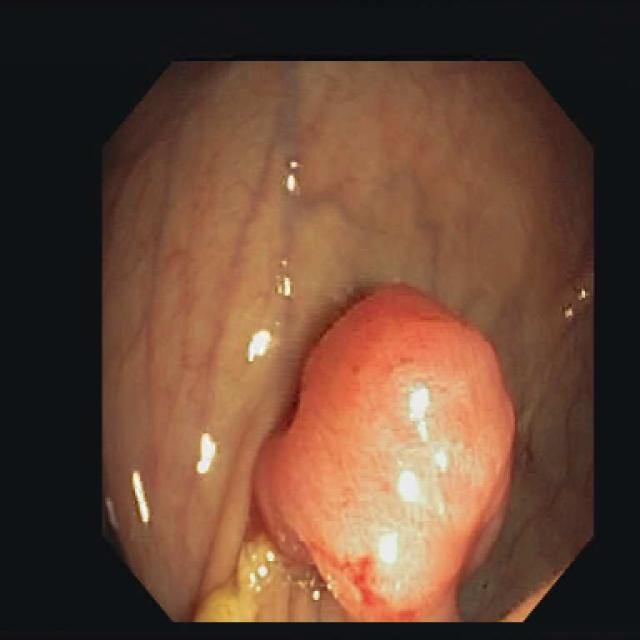tumor: (253, 287, 513, 620)
